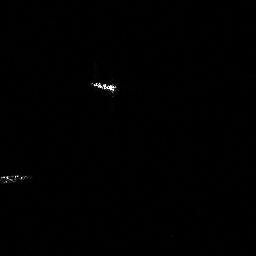ship: (1, 169, 34, 187), (89, 79, 118, 96)
